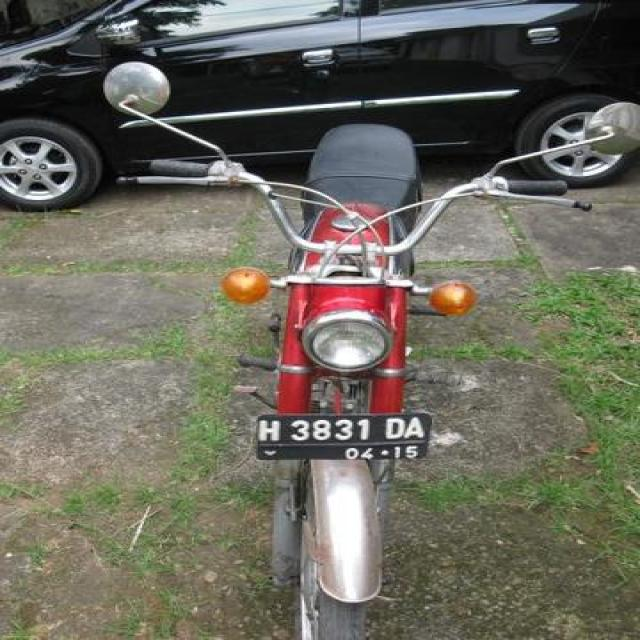plate: (254, 414, 432, 462)
